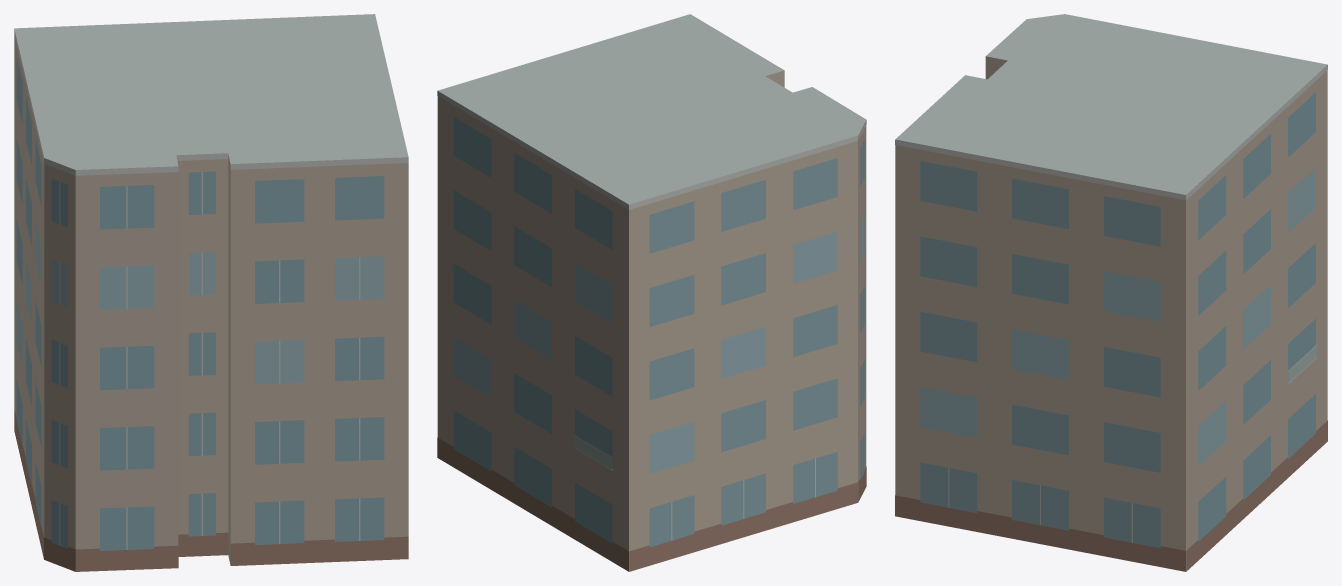
File: survey-upis-32945867.glb
3 renders of one model, left to right at view 1: azimuth 30°, elevation 25°; view 2: azimuth 150°, elevation 25°; view 3: azimuth 270°, elevation 25°, orthographic. The views are drawn at different scales.
Visible parts, largest first — view 1: survey-upis-32945867.tmp; view 2: survey-upis-32945867.tmp; view 3: survey-upis-32945867.tmp.
Boxes of the visible parts, box(x1,y1,x2,y2) form: survey-upis-32945867.tmp: box(14, 14, 408, 571); survey-upis-32945867.tmp: box(437, 14, 866, 571); survey-upis-32945867.tmp: box(895, 14, 1327, 571).
Bounding box in the file's own units: 17.52 × 17 × 17.7.
